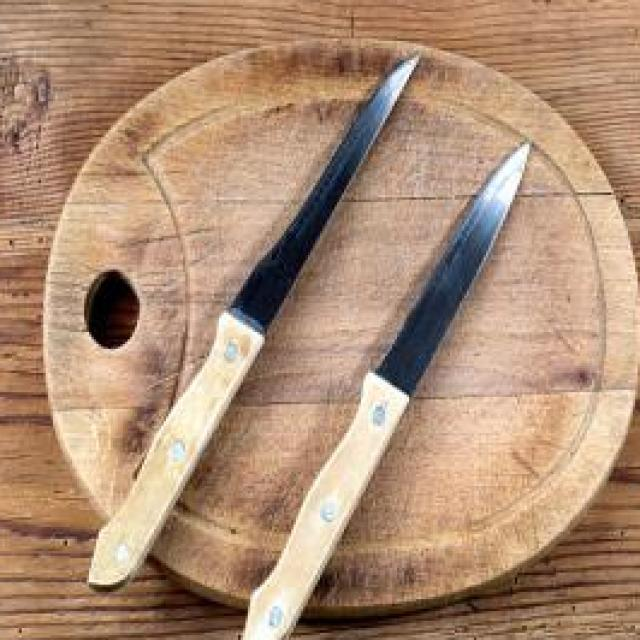knife: (82, 39, 428, 599), (238, 130, 544, 640)
